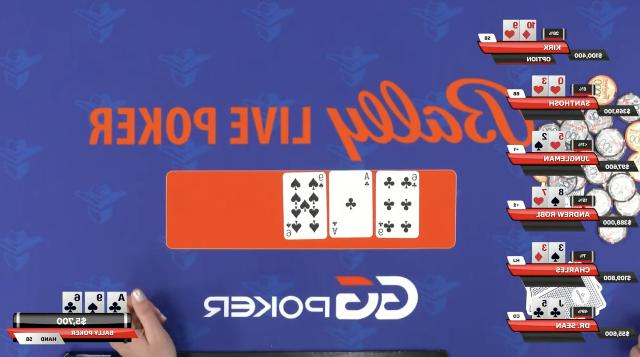10D: (520, 20, 536, 40)
2S: (532, 131, 548, 151)
3D: (532, 243, 548, 263)
3H: (532, 76, 548, 96)
3S: (549, 242, 565, 264)
5C: (533, 298, 549, 318)
5H: (548, 130, 566, 152)
6C: (62, 292, 82, 314)
7H: (531, 188, 547, 208)
8S: (548, 187, 566, 207)
9H: (503, 20, 519, 40)
9S: (85, 292, 105, 312)
AC: (107, 292, 127, 314)
JC: (550, 298, 566, 318)
QH: (549, 75, 565, 95)
